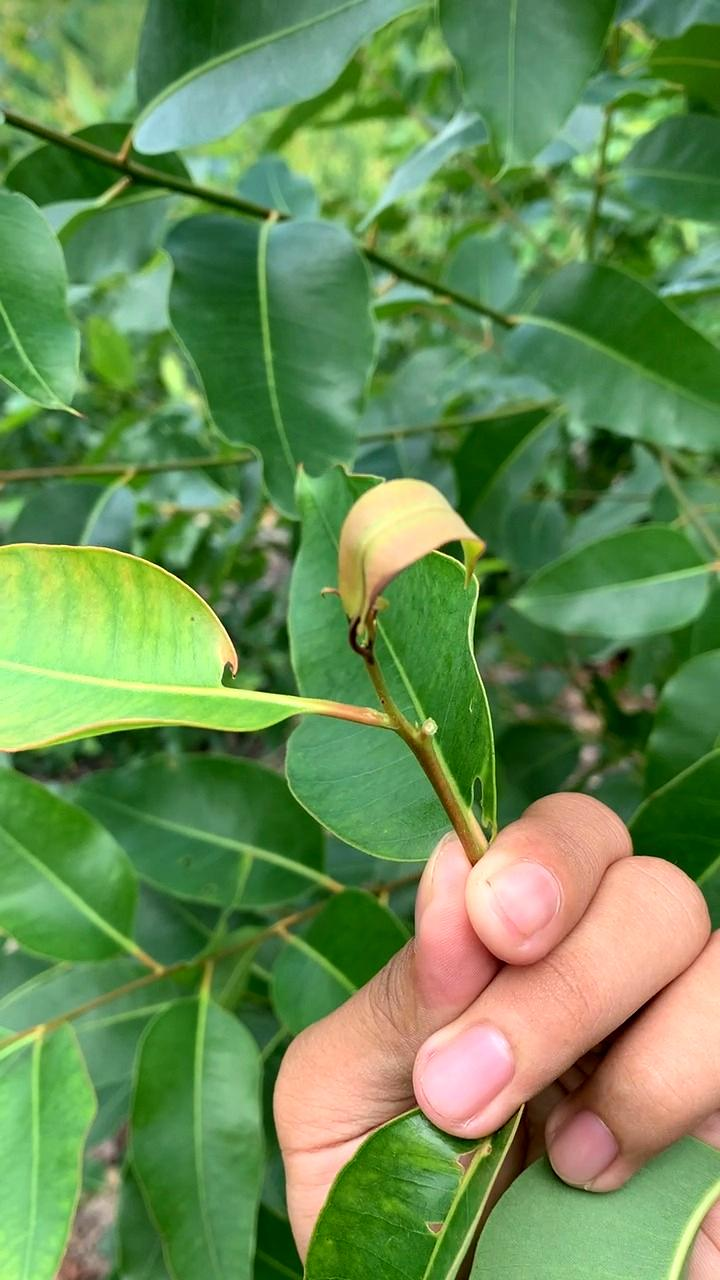Helopeltis-Withered Sprout: (328, 480, 495, 630)
